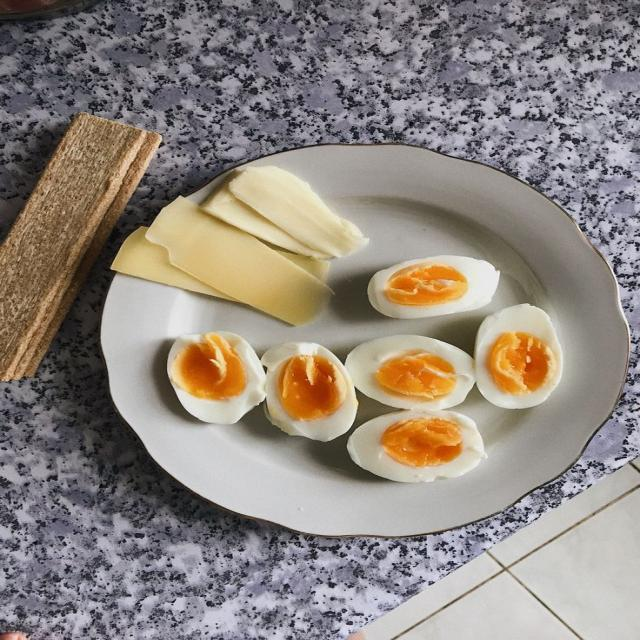eggs: (185, 307, 595, 486)
